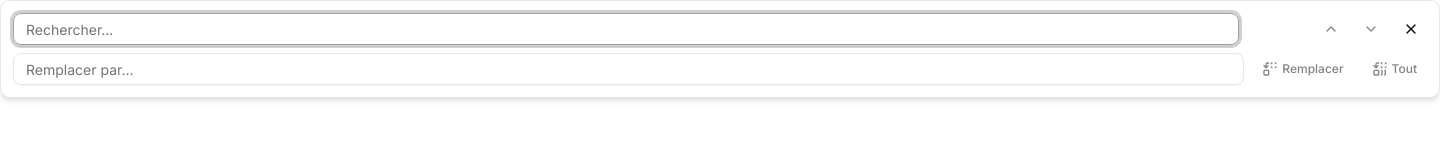
Test: SearchReplaceBar › should navigate to previous match when previous button clicked
This screenshot has width=1440, height=160.
Step 1. Type "hello" into the field with placeholder "Rechercher..." → point(626, 29), box [13, 13, 1239, 45]
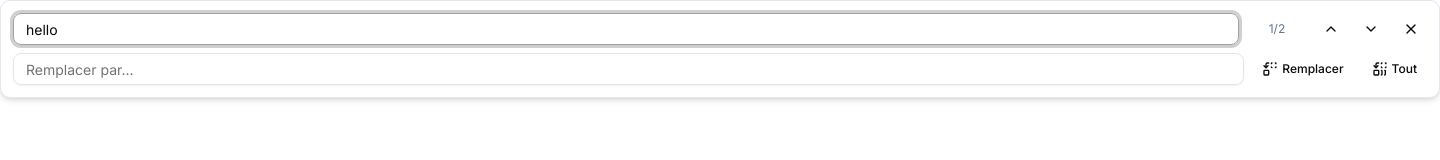
Now the text "1/2" is shown, box [1269, 21, 1285, 36]
Go to next then back to previous
Step 2. Click the button titled "Suivant" → point(1371, 29), box [1355, 13, 1387, 45]
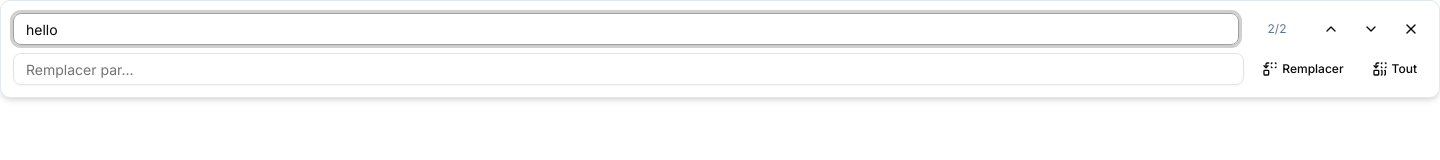
Now the text "2/2" is shown, box [1268, 21, 1286, 36]
Step 3. Click the button titled "Précédent" → point(1331, 29), box [1315, 13, 1347, 45]
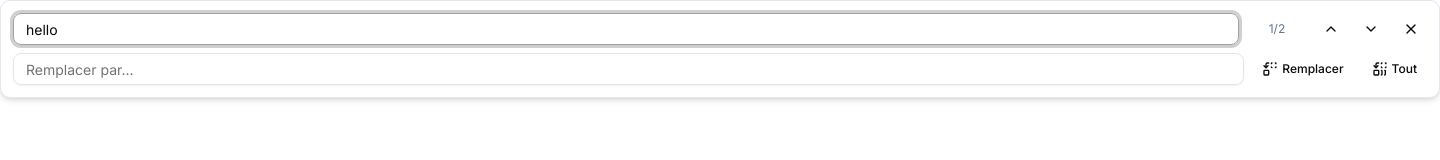
Now the text "1/2" is shown, box [1269, 21, 1285, 36]
